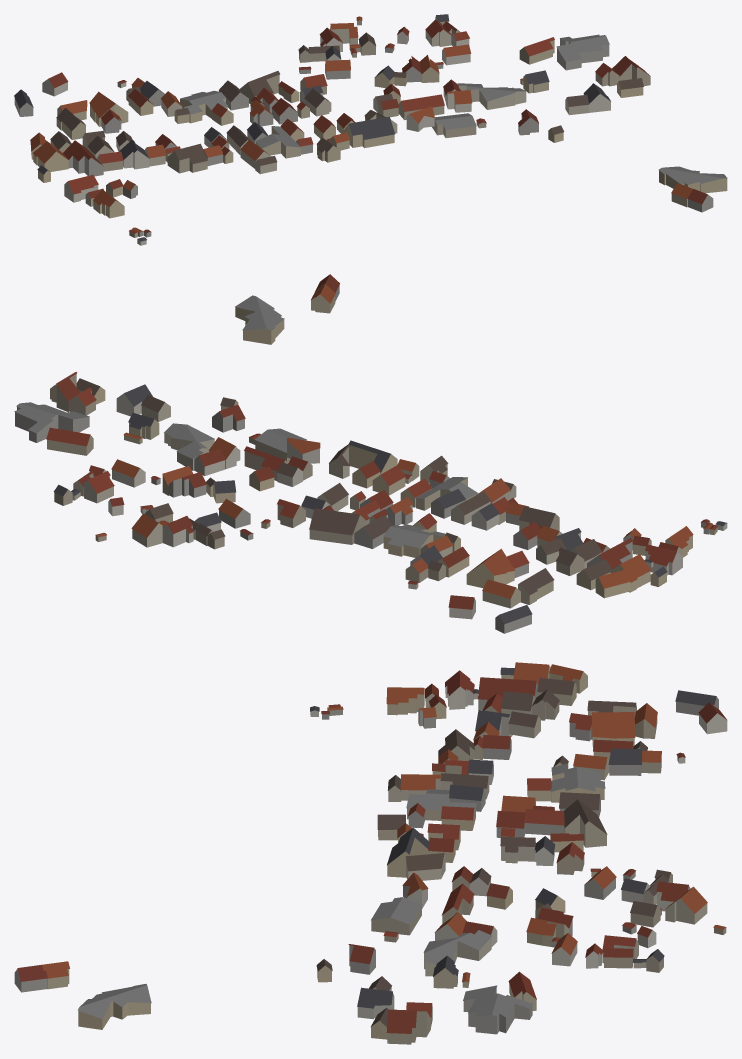
3 renders of one model, top to bottom at view 1: azimuth 30°, elevation 25°; view 2: azimuth 150°, elevation 25°; view 3: azimuth 270°, elevation 25°, orthographic. The views are drawn at different scales.
Parts seen in each view (by area): view 1: buildings; view 2: buildings; view 3: buildings.
Part boxes in pixels (x1,y1,x2,y2): buildings: (14,14,727,245); buildings: (14,274,727,633); buildings: (14,662,727,1044).
Bounding box in the file's own units: 408 × 29.43 × 347.
